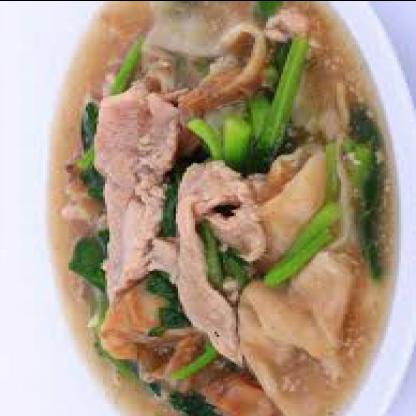Laadna: (29, 3, 408, 414)
